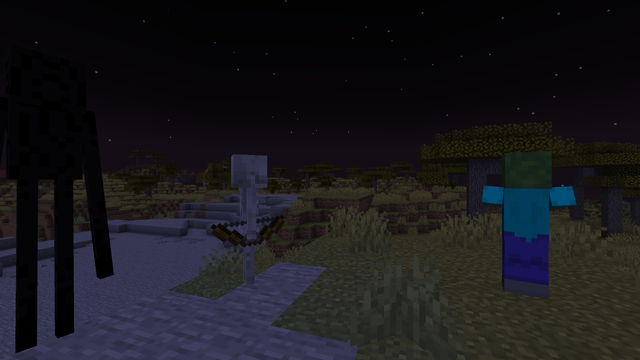endermens: (1, 31, 98, 358)
squelettes: (220, 154, 273, 290)
zombies: (493, 154, 560, 304)
